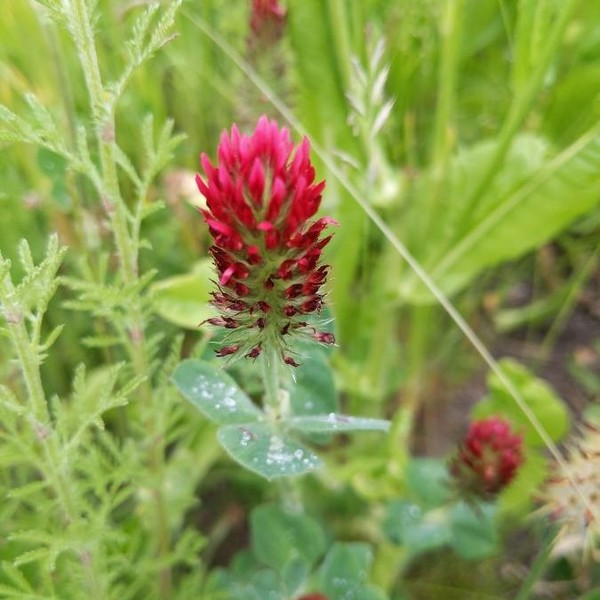obstacle: (87, 119, 396, 570)
